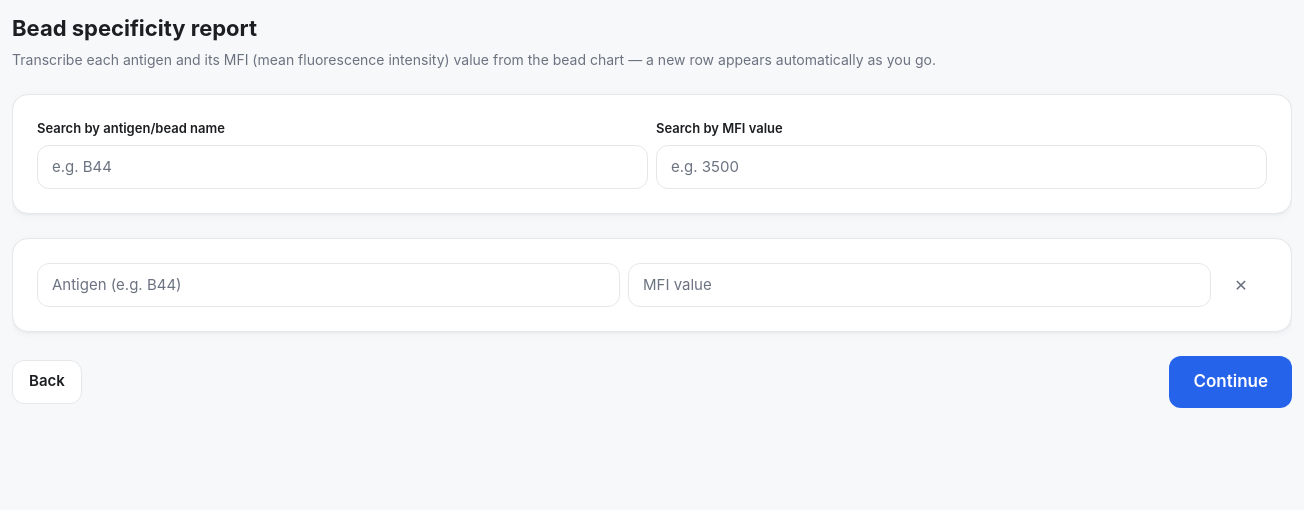
BeadSpecificityStep › requires an MFI value once an antigen has been entered
Type "DQ7" into the field with placeholder "Antigen (e.g. B44)".
click(328, 284); type("DQ7")  # box [37,262,620,306]
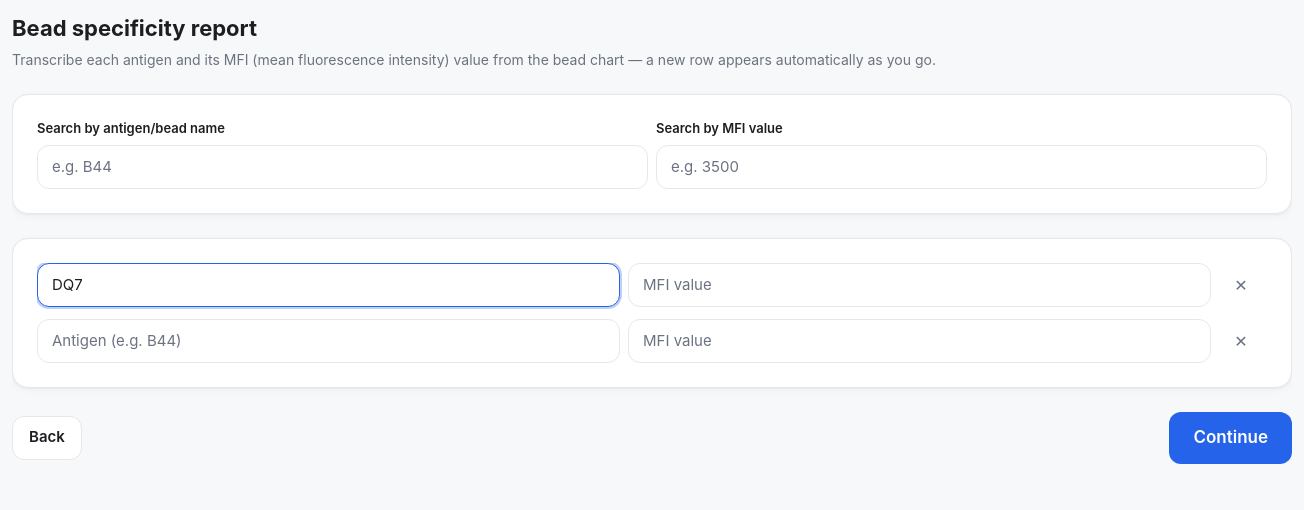
Click the button "Continue".
click(1231, 438)  # box [1169,412,1292,464]
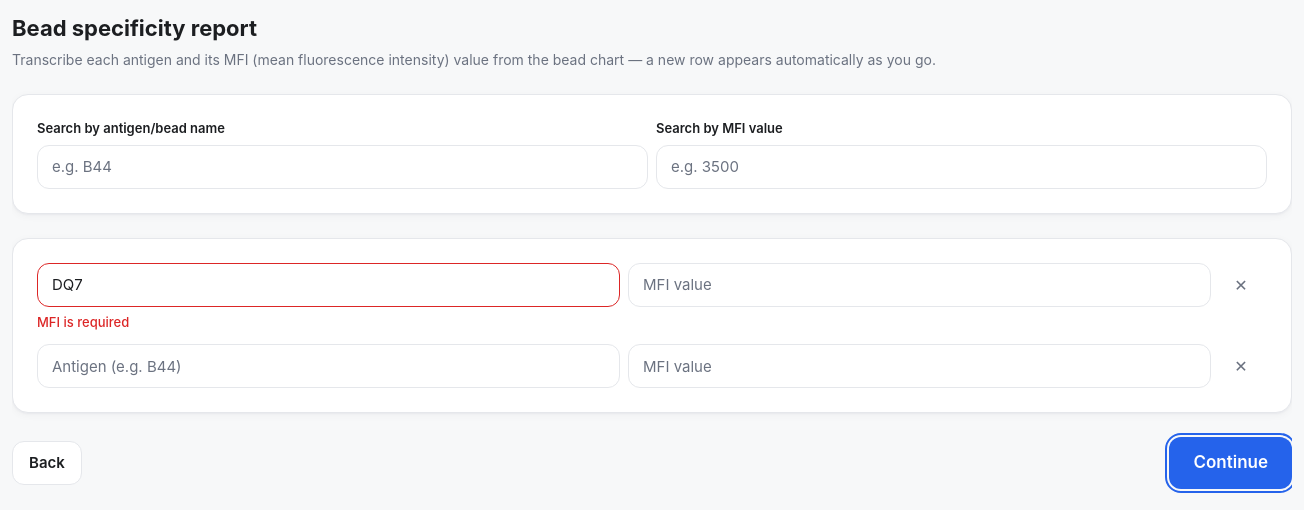
Now the text "MFI is required" is shown, box [37,314,129,330]
